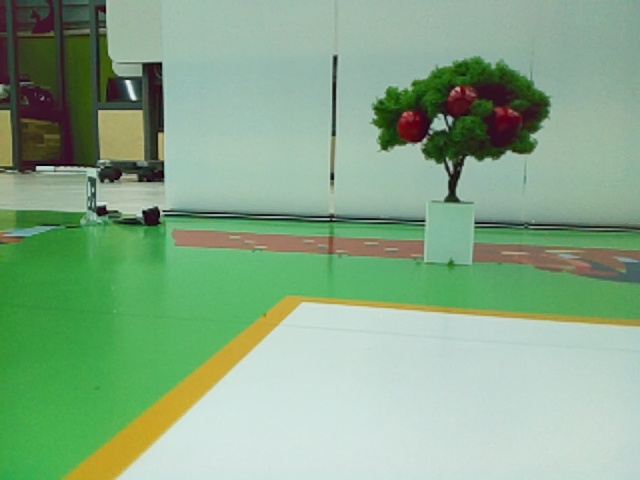apple: (448, 86, 477, 113), (397, 111, 421, 141), (494, 106, 523, 130)
